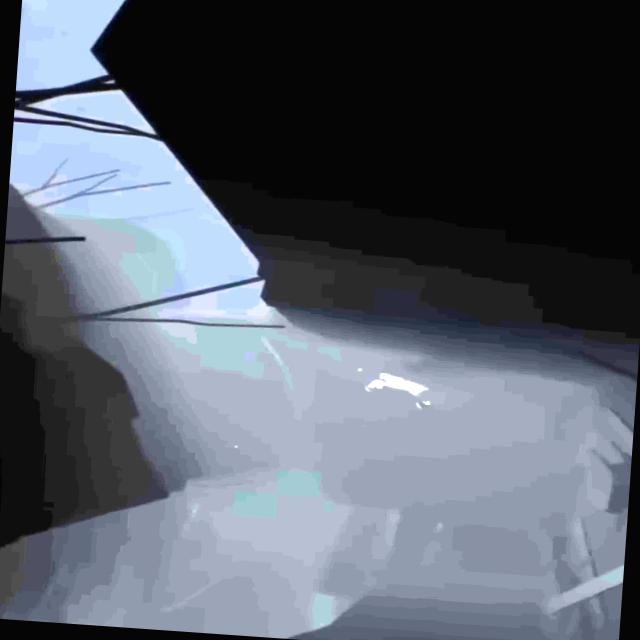boy: (366, 371, 438, 407)
